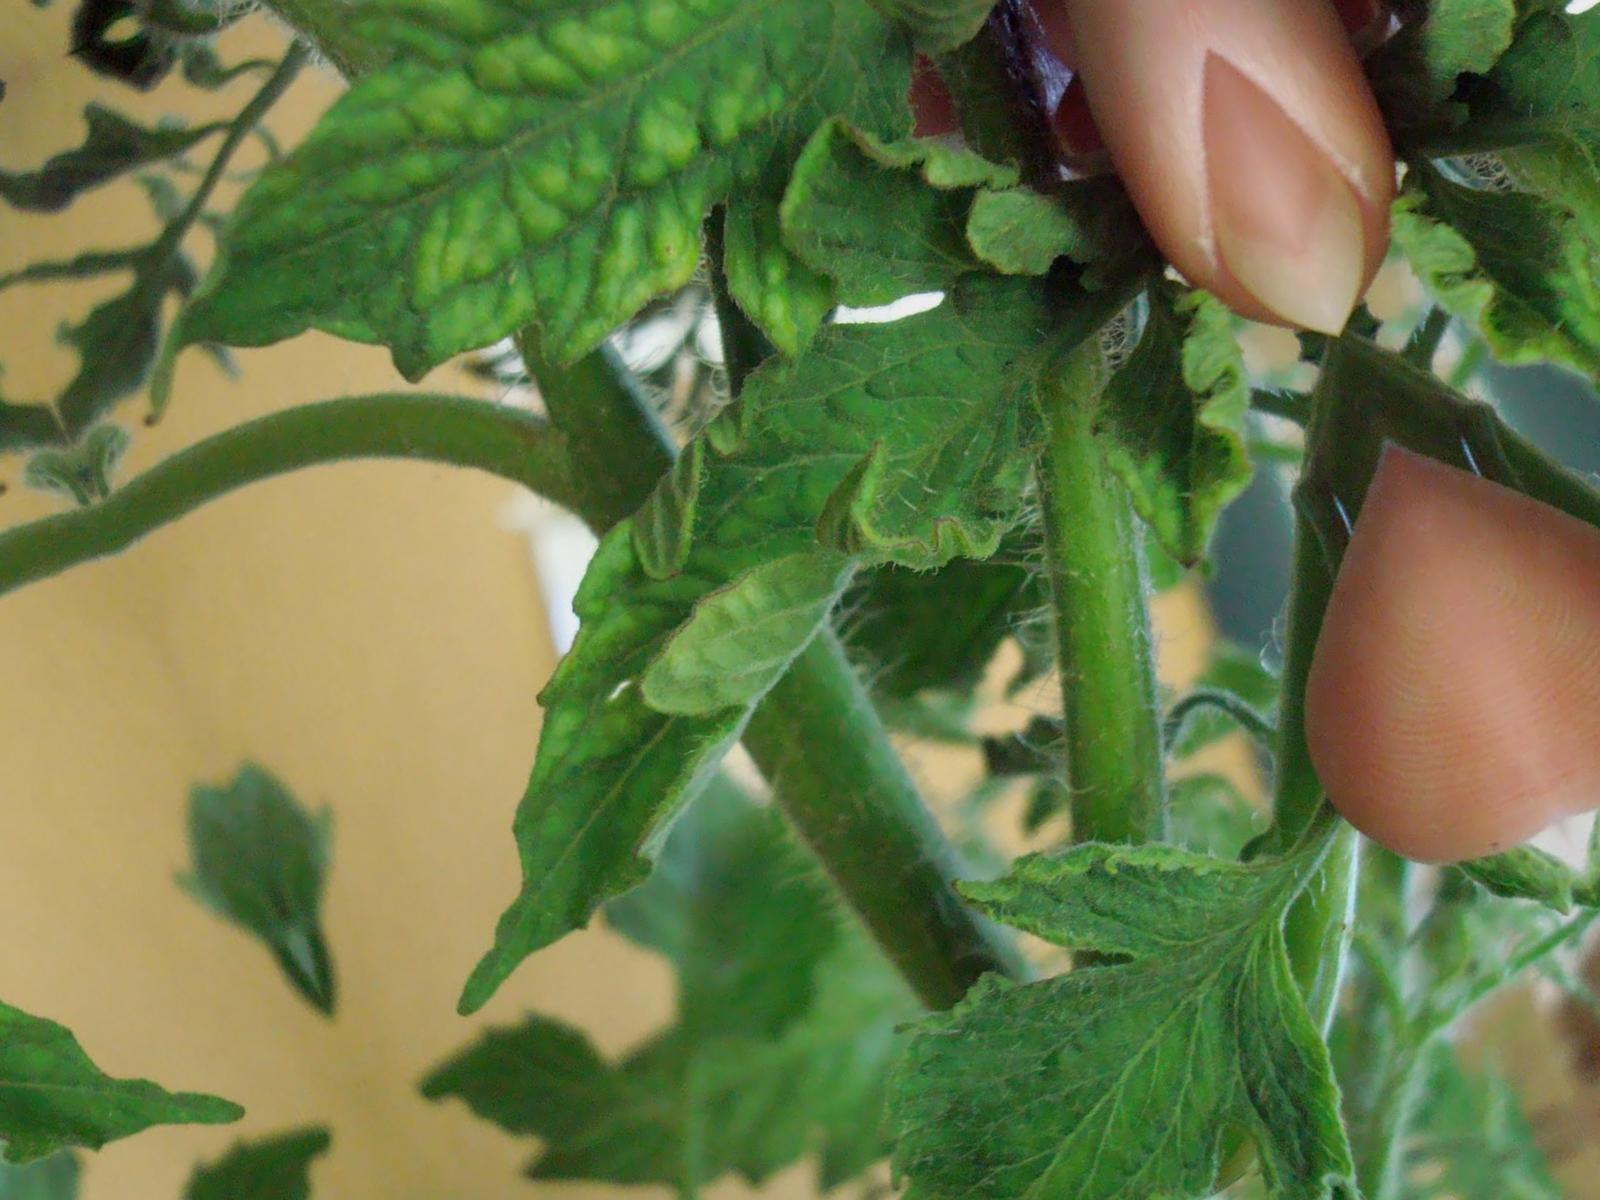Tomato leaf mosaic virus: (190, 61, 1259, 1022), (71, 0, 1056, 550), (645, 750, 1412, 1200)
